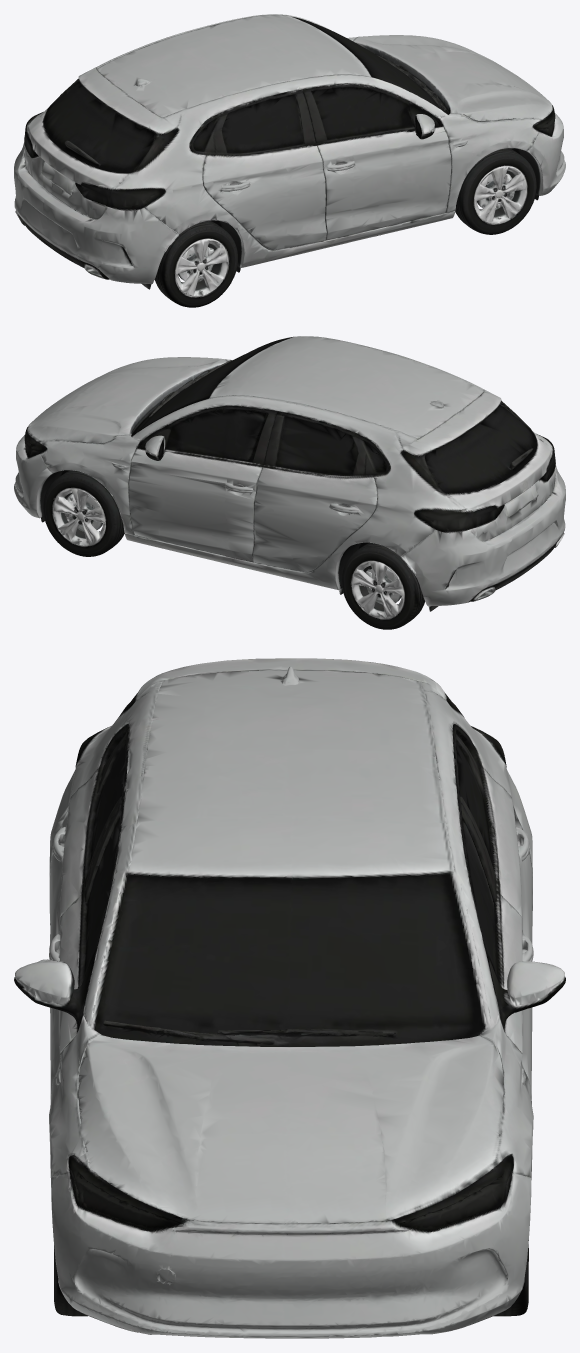
File: body-hatchback.glb
3 views of the same model, one above another, from view 1: azimuth 30°, elevation 25°; view 2: azimuth 150°, elevation 25°; view 3: azimuth 270°, elevation 25° (orthographic). The views are drawn at different scales.
Parts seen in each view (by area): view 1: tripo_node_dd1ea76a-1fb6-41e8-bbf3-bb28e22658c6; view 2: tripo_node_dd1ea76a-1fb6-41e8-bbf3-bb28e22658c6; view 3: tripo_node_dd1ea76a-1fb6-41e8-bbf3-bb28e22658c6.
Boxes of the visible parts, x1,y1,x2,y2 form: tripo_node_dd1ea76a-1fb6-41e8-bbf3-bb28e22658c6: (14, 14, 565, 307); tripo_node_dd1ea76a-1fb6-41e8-bbf3-bb28e22658c6: (14, 336, 565, 629); tripo_node_dd1ea76a-1fb6-41e8-bbf3-bb28e22658c6: (14, 658, 565, 1338).
Bounding box in the file's own units: 0.98 × 0.3574 × 0.493.
Materials: 1 (1 with a texture image).
